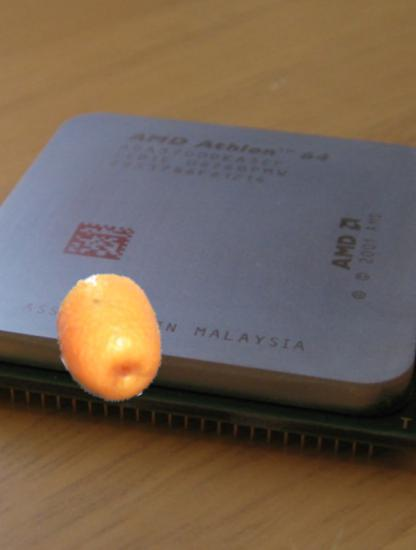Kumquats: (44, 273, 175, 404)
